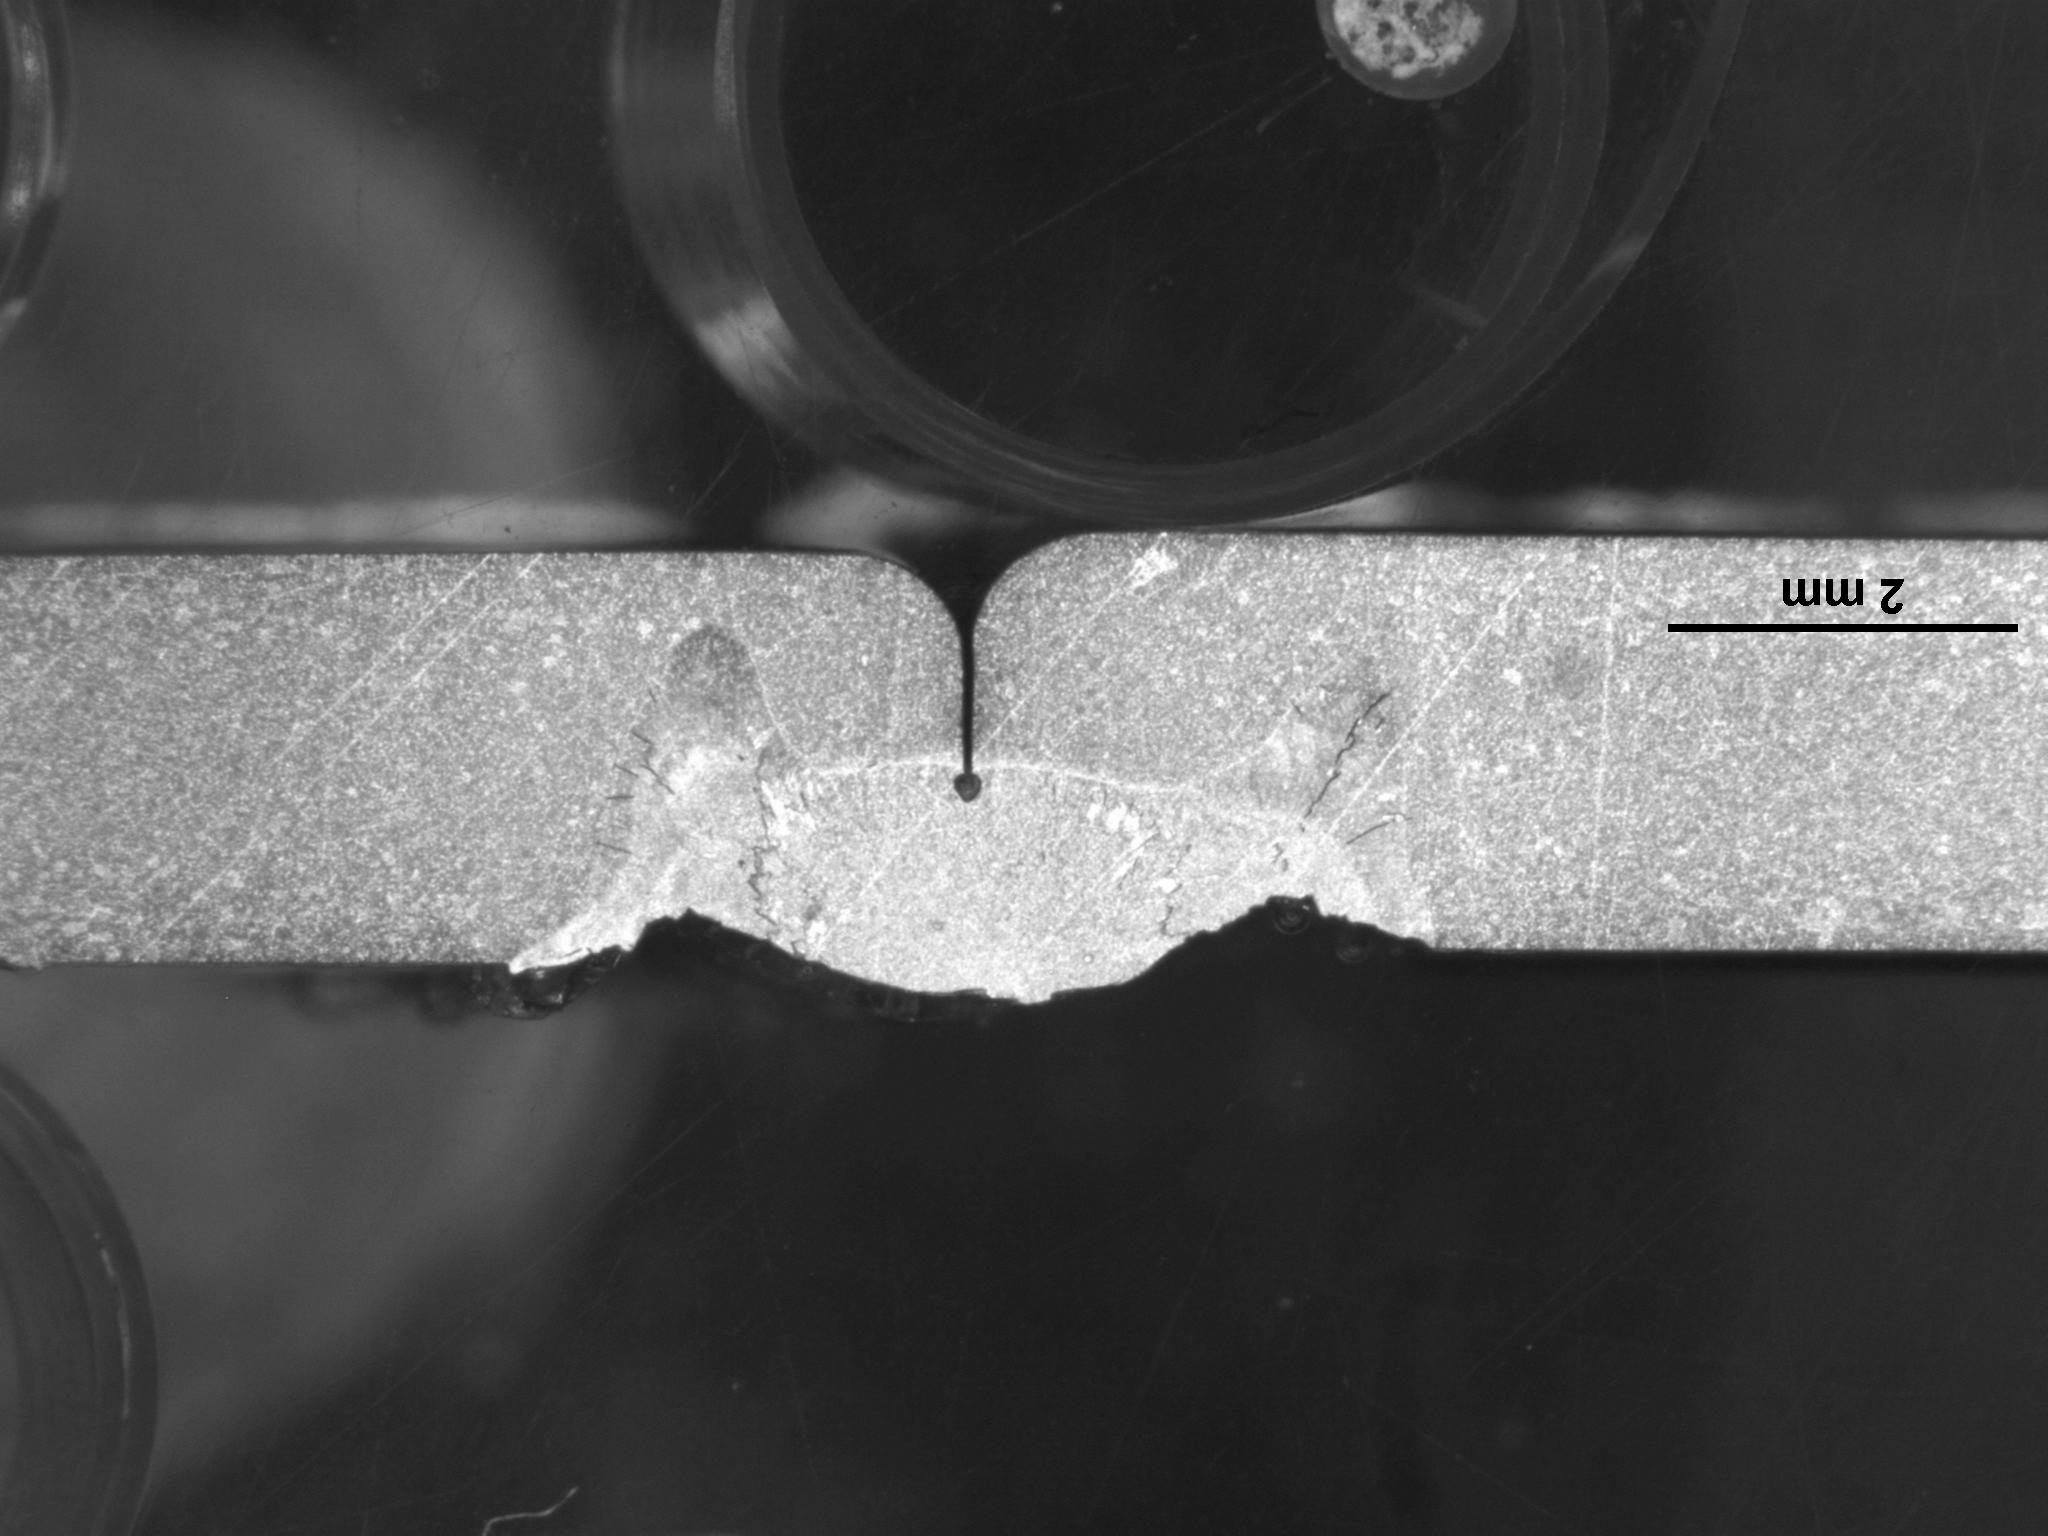Scale-bar: (1659, 573, 2025, 642)
